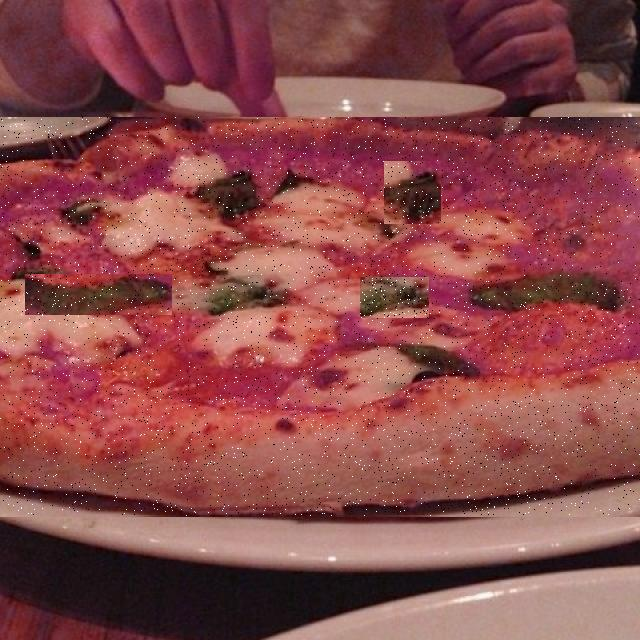Basil: (25, 275, 172, 315), (384, 162, 441, 224), (360, 278, 429, 318), (563, 245, 631, 282), (156, 346, 232, 374), (546, 194, 574, 231)
Pizza: (0, 117, 640, 516)
